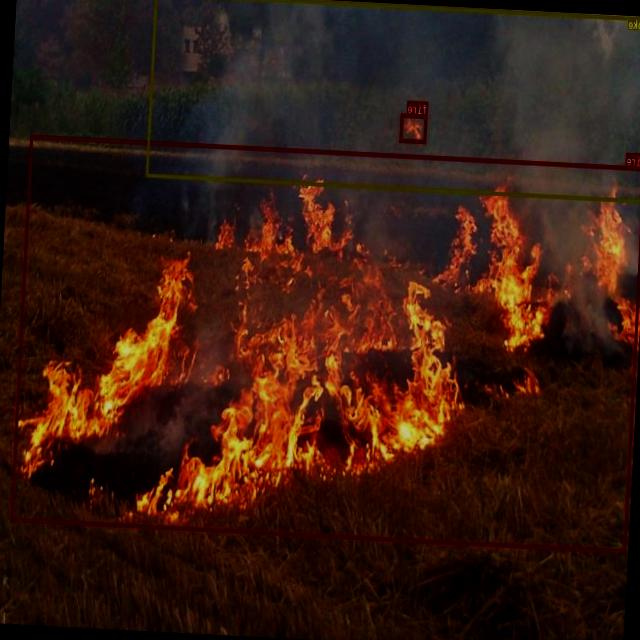fire: (11, 134, 640, 553), (400, 113, 427, 143)
smoke: (146, 0, 640, 202)
